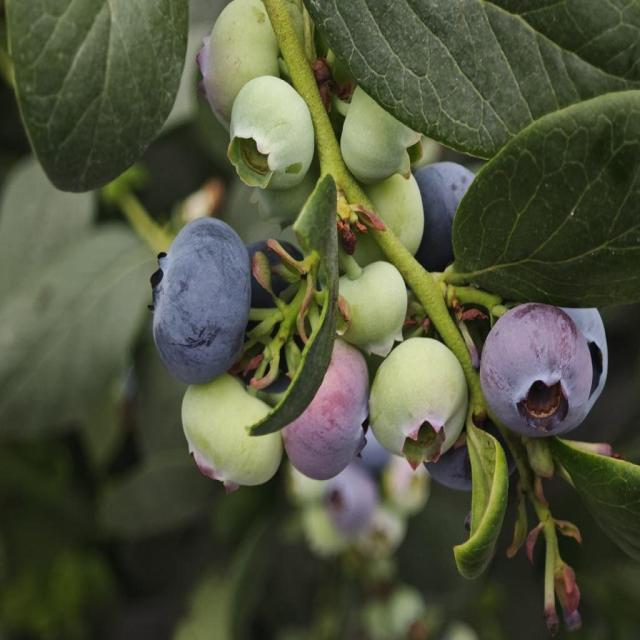RipeBlueBerry: (146, 208, 263, 384)
Semi-RipeBlueBerry: (486, 293, 588, 458)
UnripeBlueBerry: (372, 328, 478, 501), (282, 332, 385, 493), (221, 77, 327, 186)
